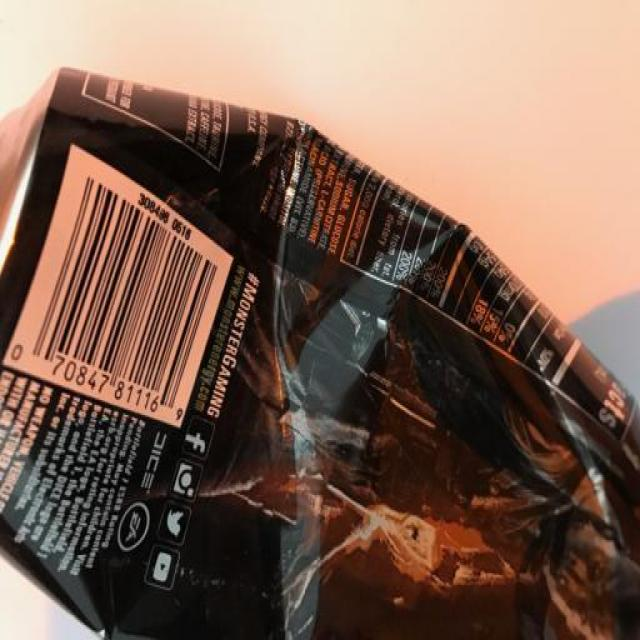metel: (1, 59, 640, 640)
